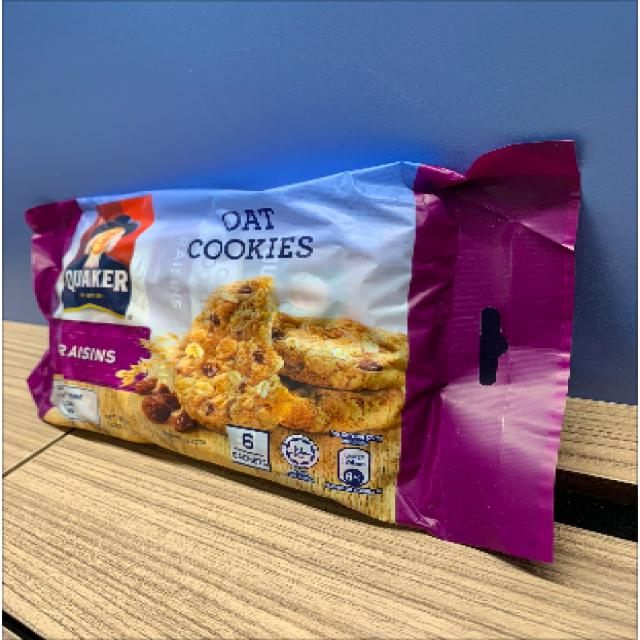object_name: (37, 190, 548, 496)
